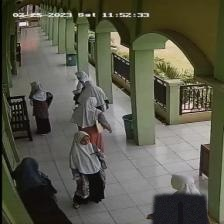Cadar_Niqab: (151, 173, 208, 224)
